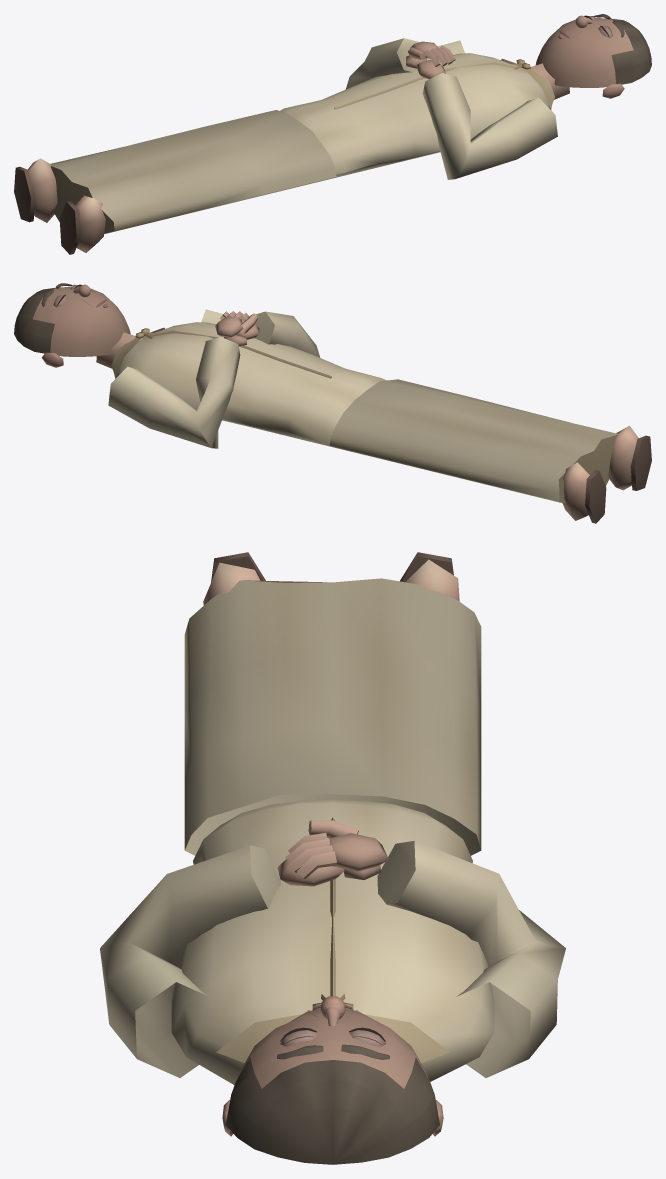
File: ph_prop_corpse_gown.glb
3 views of the same model, one above another, from view 1: azimuth 30°, elevation 25°; view 2: azimuth 150°, elevation 25°; view 3: azimuth 270°, elevation 25° (orthographic). The views are drawn at different scales.
Visible parts, largest first — view 1: ph_prop_corpse_gown; view 2: ph_prop_corpse_gown; view 3: ph_prop_corpse_gown.
Boxes of the visible parts, box(x1,y1,x2,y2) form: ph_prop_corpse_gown: box(14, 14, 651, 254); ph_prop_corpse_gown: box(14, 283, 651, 523); ph_prop_corpse_gown: box(100, 552, 565, 1164).
Bounding box in the file's own units: 1.71 × 0.297 × 0.5724.
